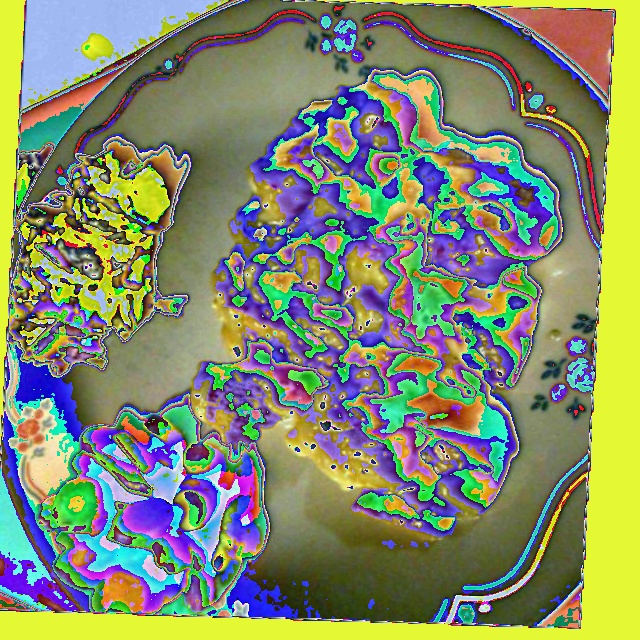background: (34, 80, 558, 616), (7, 149, 188, 378)
